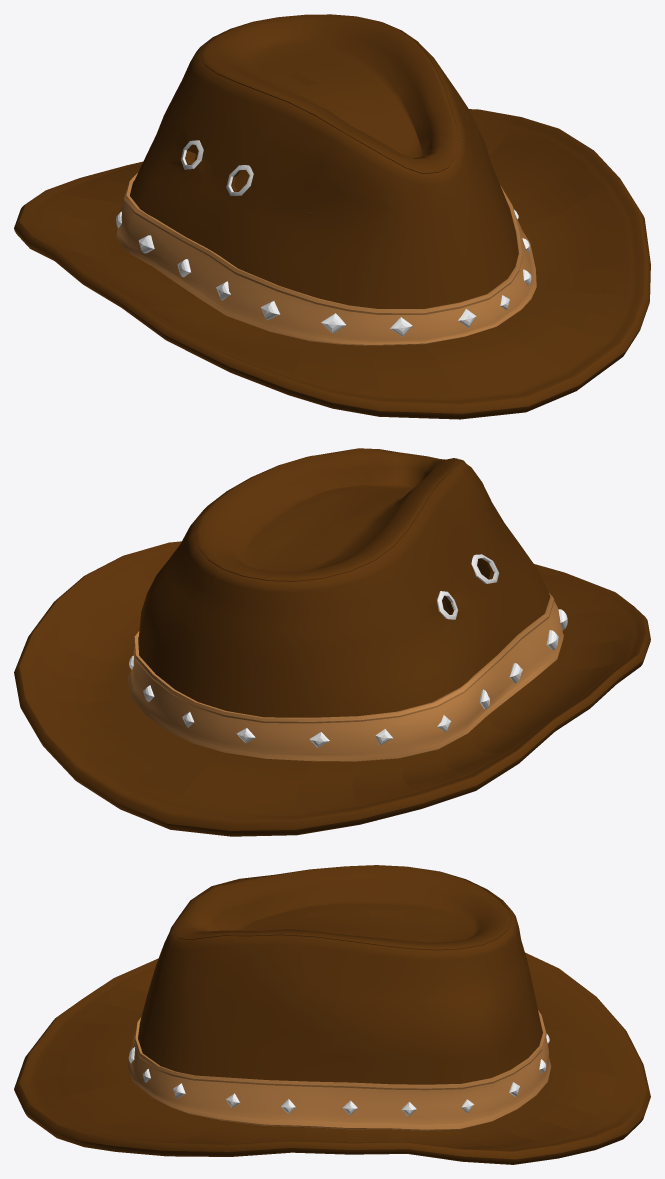
File: CowboyHat_Boy.fbx
3 renders of one model, top to bottom at view 1: azimuth 30°, elevation 25°; view 2: azimuth 150°, elevation 25°; view 3: azimuth 270°, elevation 25°, orthographic. The views are drawn at different scales.
Visible parts, largest first — view 1: Cowboy_hat; view 2: Cowboy_hat; view 3: Cowboy_hat.
Part boxes in pixels (bbox=[...]): Cowboy_hat: bbox=[14, 14, 650, 419]; Cowboy_hat: bbox=[14, 448, 650, 836]; Cowboy_hat: bbox=[14, 865, 650, 1164].
Size of the model in its own units: 73.06 by 30.98 by 85.82.
